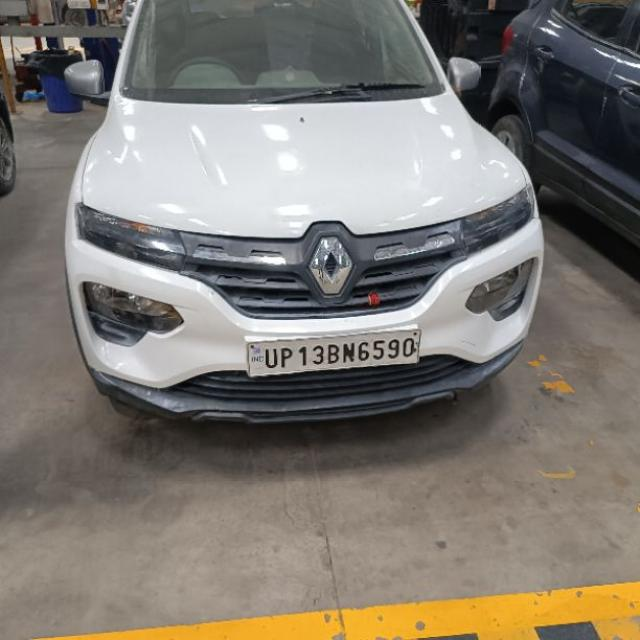license_plate: (245, 328, 421, 378)
